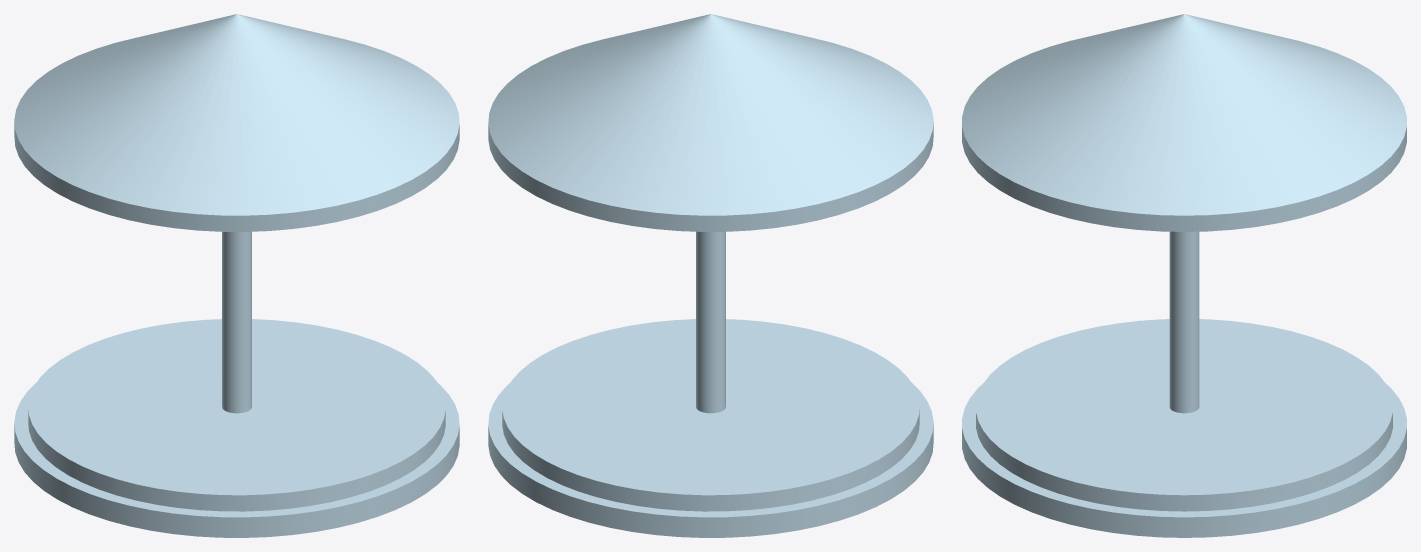
File: mgr_body.fbx
The picture shows the model from 3 angles, left to right: view 1: azimuth 30°, elevation 25°; view 2: azimuth 150°, elevation 25°; view 3: azimuth 270°, elevation 25°; orthographic projection.
Parts seen in each view (by area): view 1: mesh0; view 2: mesh0; view 3: mesh0.
Boxes of the visible parts, bbox=[...] form: mesh0: bbox=[14, 14, 459, 537]; mesh0: bbox=[488, 14, 933, 537]; mesh0: bbox=[962, 14, 1406, 537].
Bounding box in the file's own units: 225 × 240 × 225.
